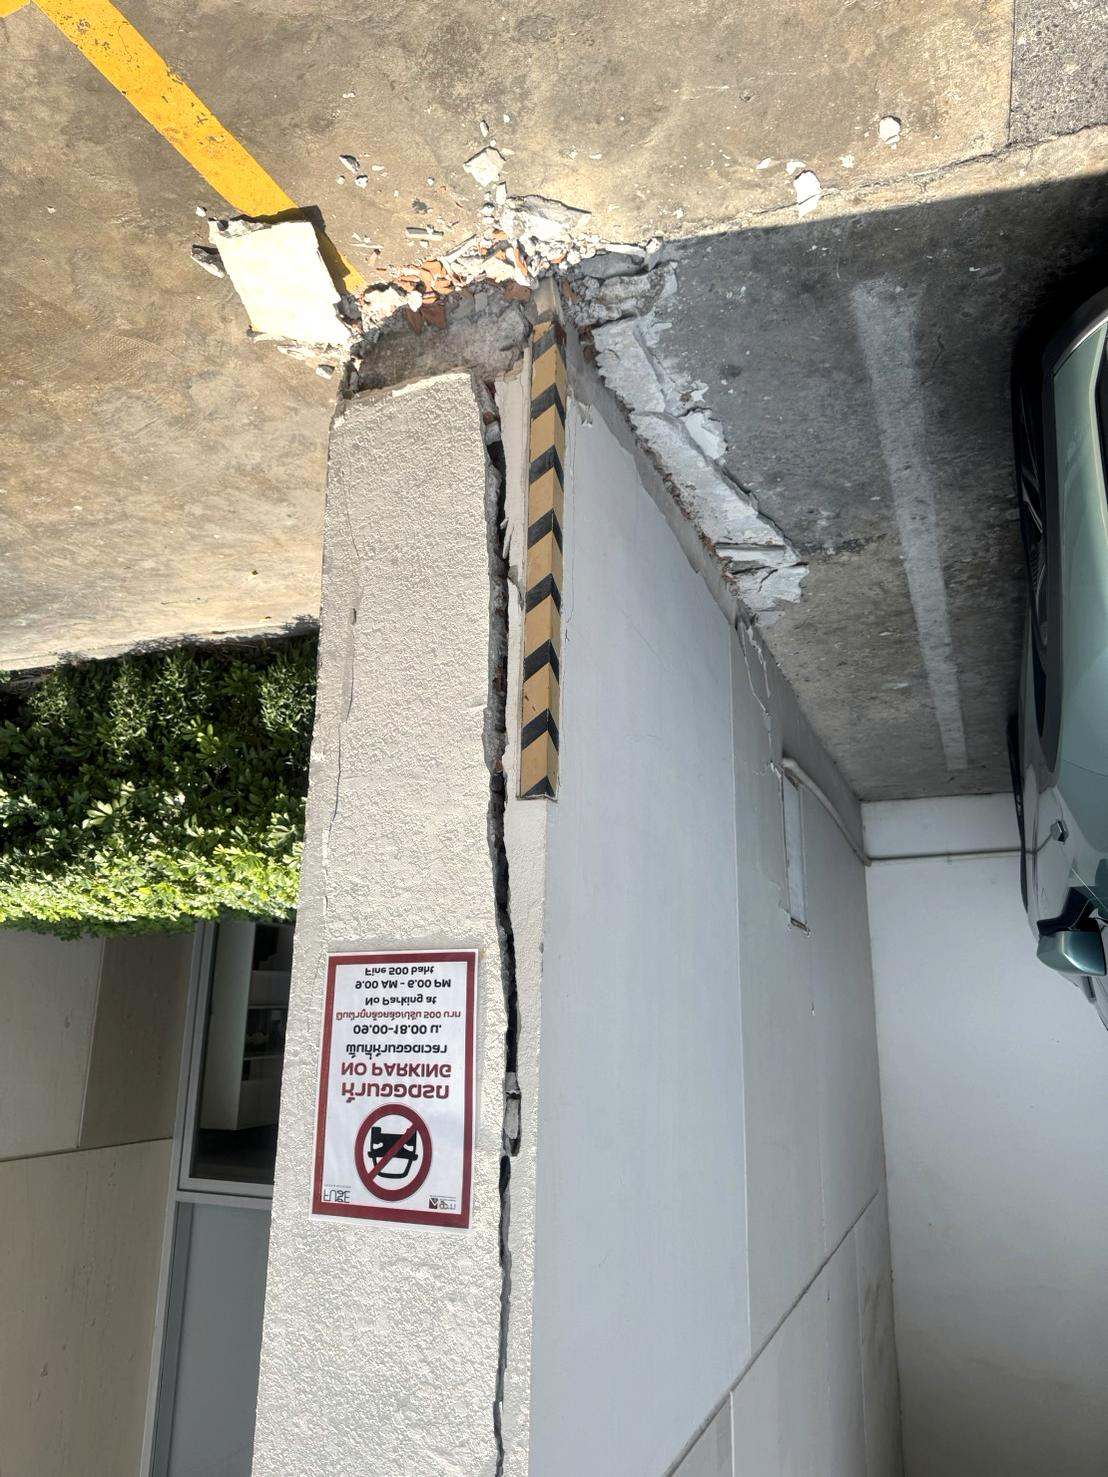High: (410, 270, 569, 1477)
